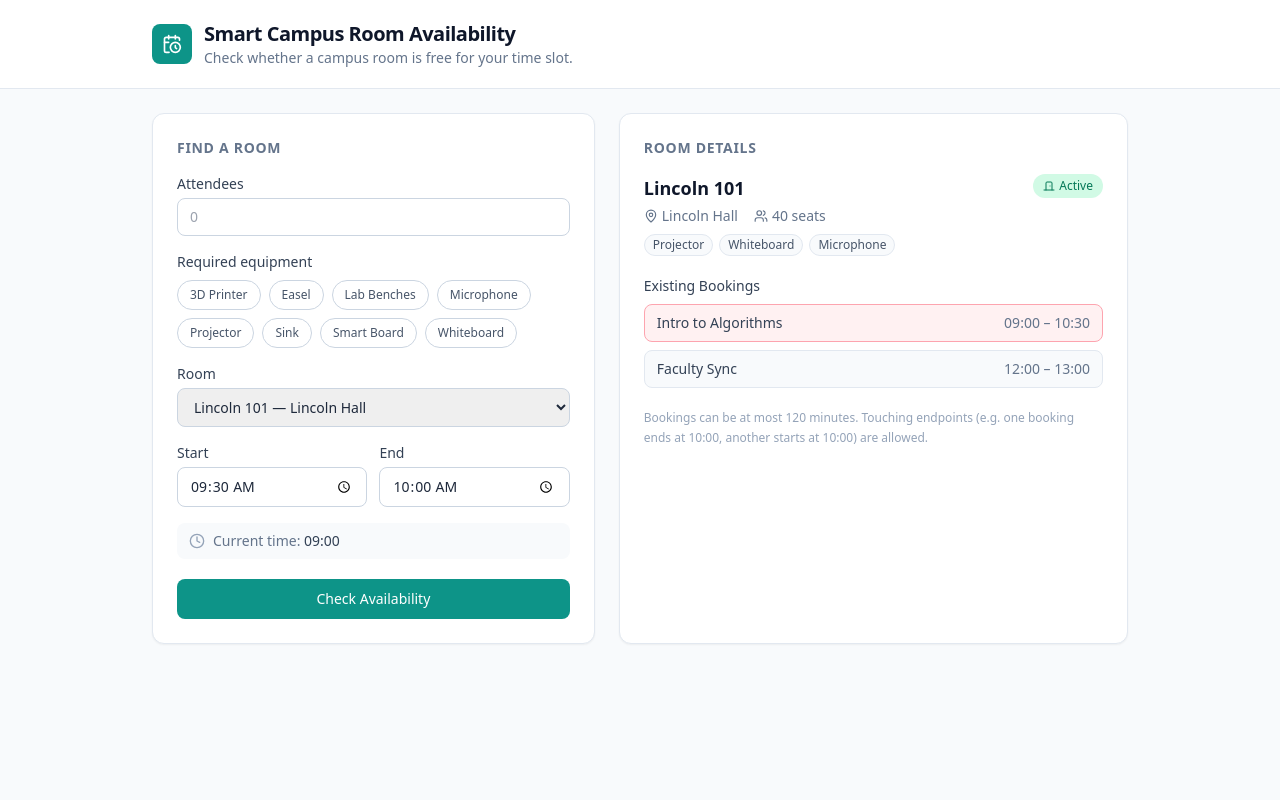
RoomChecker UI — stale current time (R1 regression) › rejects a start time that was valid when the page opened but is now past
The width and height of the screenshot is (1280, 800).
Click the button "Check Availability": (373, 599) [177,579,570,619]
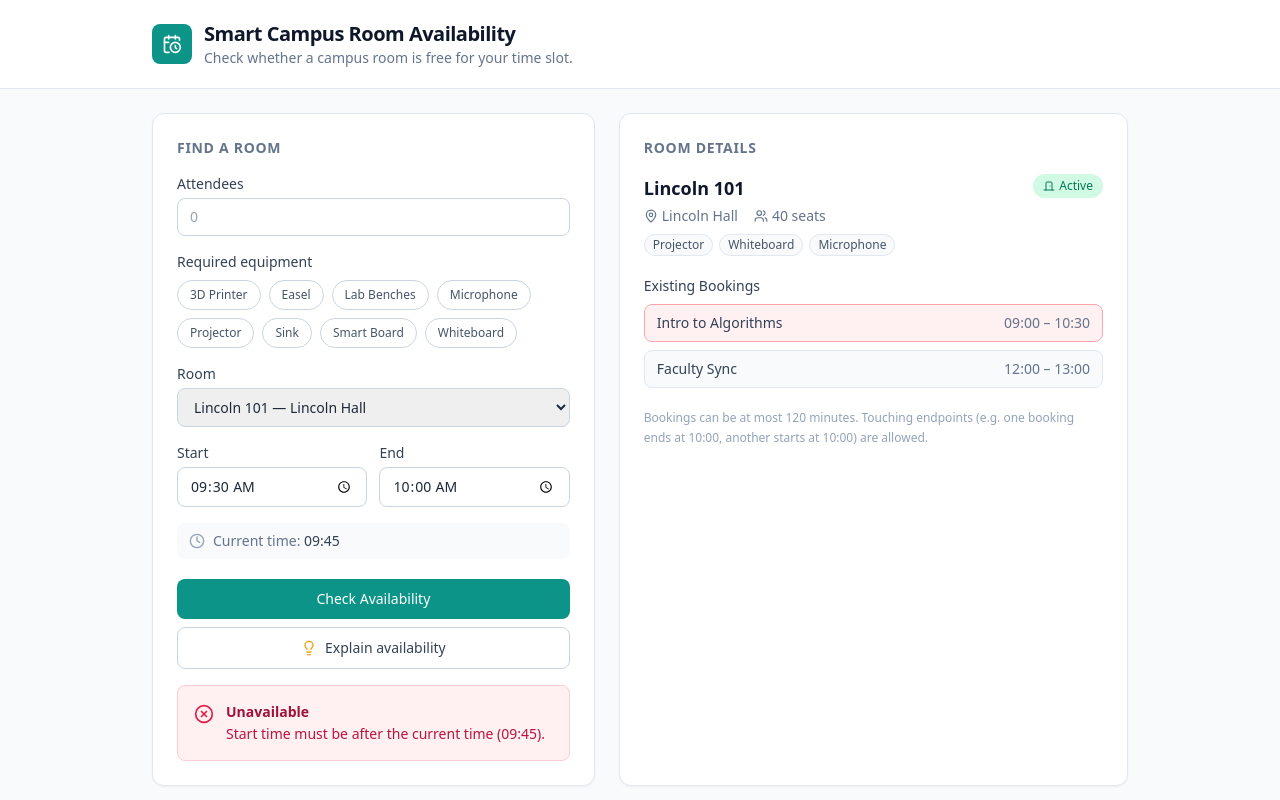
Expected: the text "Start time must be after the current time (09:45)." is shown, [226,724,545,744]
Expected: the text "Current time: 09:45" is shown, [213,531,340,551]
